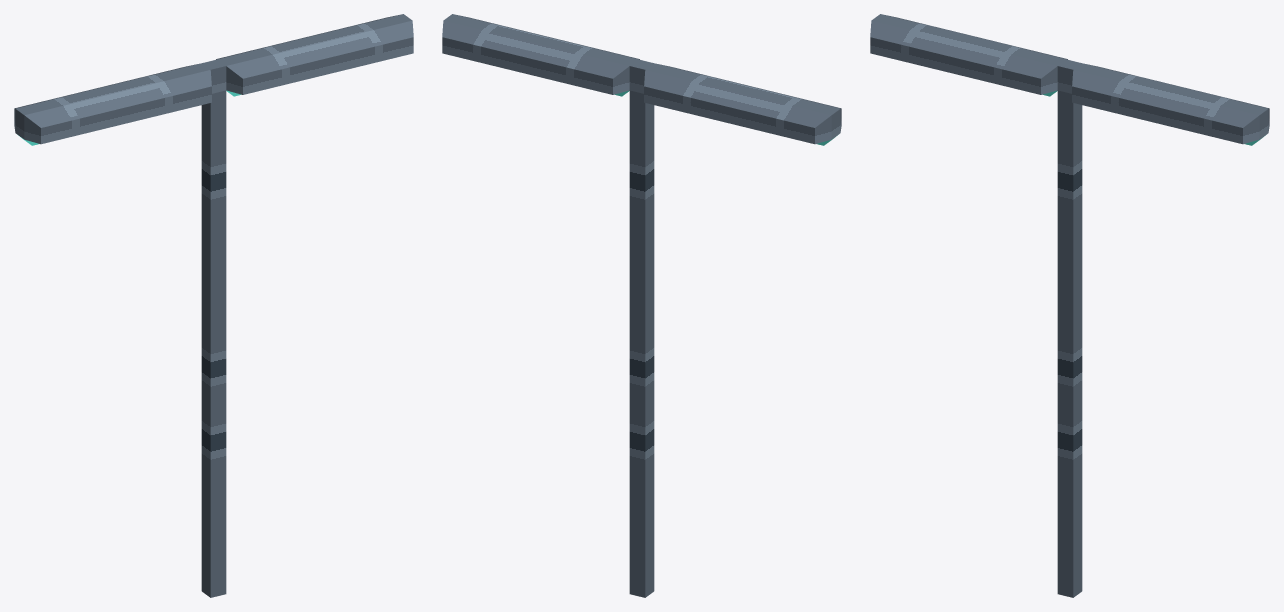
File: Prop_Lamp.gltf
3 renders of one model, left to right at view 1: azimuth 30°, elevation 25°; view 2: azimuth 150°, elevation 25°; view 3: azimuth 330°, elevation 25°, orthographic.
Parts seen in each view (by area): view 1: cylinder; view 2: cylinder; view 3: cylinder.
Part boxes in pixels (x1,y1,x2,y2): cylinder: (14,14,413,597); cylinder: (442,14,841,597); cylinder: (870,14,1269,597).
Bounding box in the file's own units: 3.12 × 4.06 × 0.375.
Materials: 1 (1 with a texture image).
